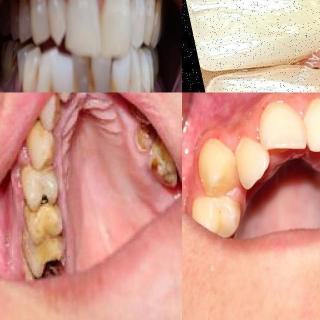Gum Swelling: (221, 111, 265, 143)
calculus: (128, 119, 158, 152), (87, 65, 99, 93), (32, 64, 44, 92), (69, 68, 81, 92), (108, 69, 118, 93), (47, 74, 58, 92)
cavities: (21, 250, 65, 280), (36, 189, 59, 215)
maligned: (228, 132, 285, 198), (192, 142, 242, 194), (36, 92, 64, 128), (53, 92, 82, 106)
stains: (285, 39, 320, 92)
